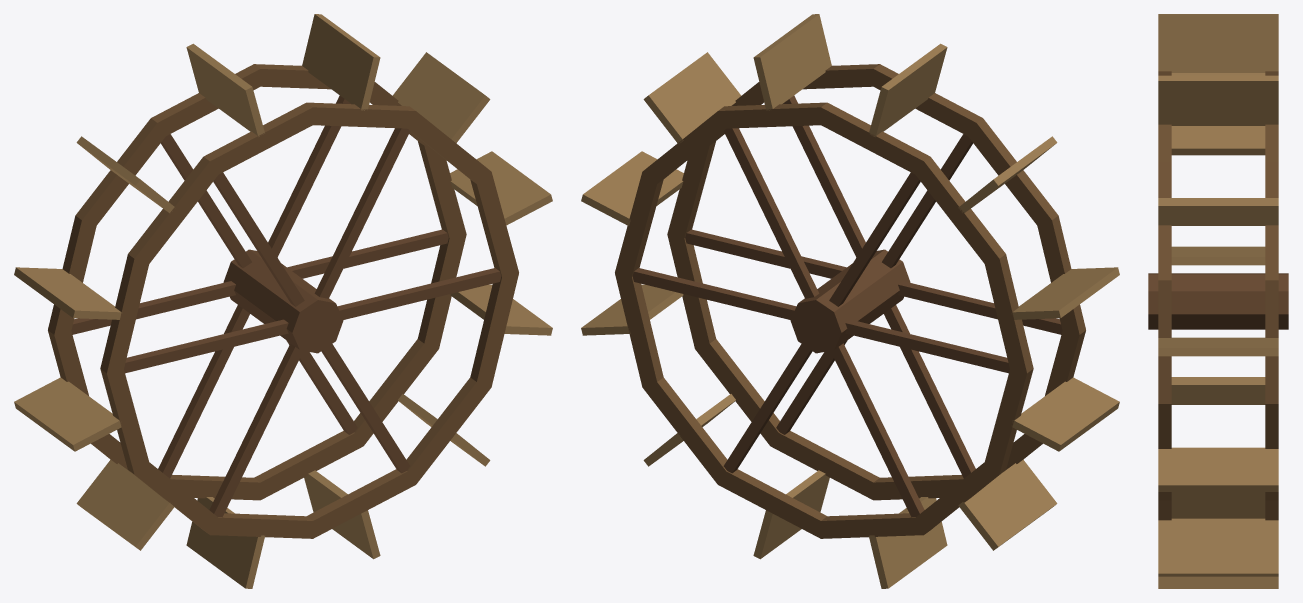
The model's file is WaterMillWheel.fbx.
3 renders of one model, left to right at view 1: azimuth 30°, elevation 25°; view 2: azimuth 150°, elevation 25°; view 3: azimuth 270°, elevation 25°, orthographic.
Visible parts, largest first — view 1: WaterMillWheel; view 2: WaterMillWheel; view 3: WaterMillWheel.
Boxes of the visible parts, bbox=[...] form: WaterMillWheel: bbox=[14, 14, 552, 588]; WaterMillWheel: bbox=[581, 14, 1119, 588]; WaterMillWheel: bbox=[1148, 14, 1288, 588].
Size of the model in its own units: 3.37 by 3.37 by 0.84.
